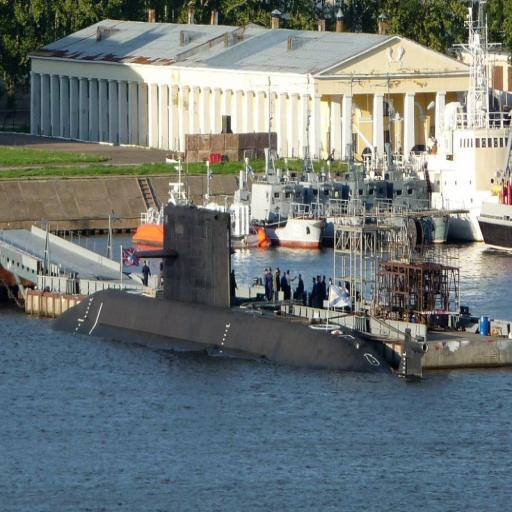submarine: (38, 197, 429, 380)
